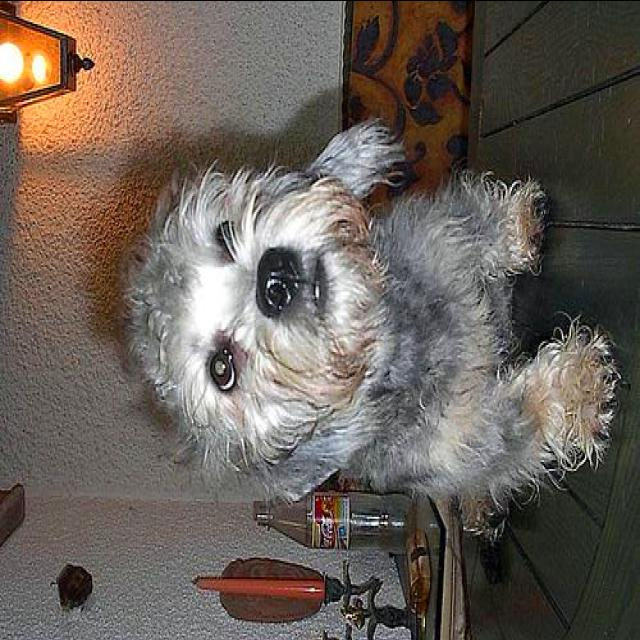dandie_dinmont: (118, 113, 618, 550)
